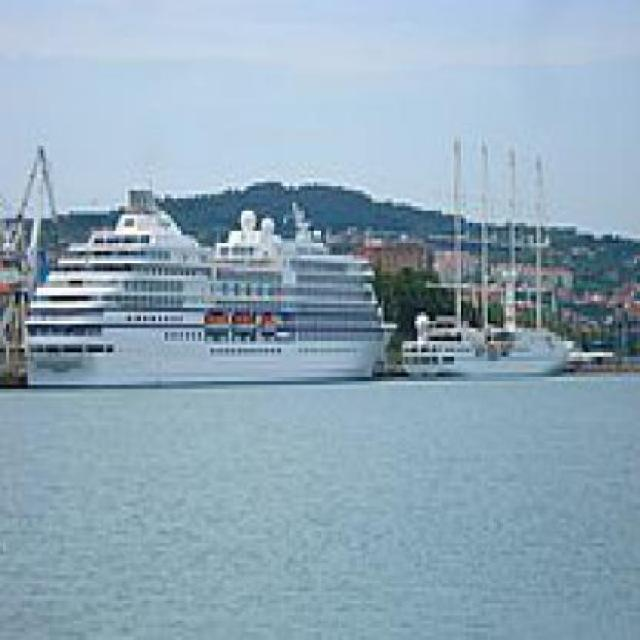cruise: (17, 171, 394, 389), (397, 300, 593, 402)
